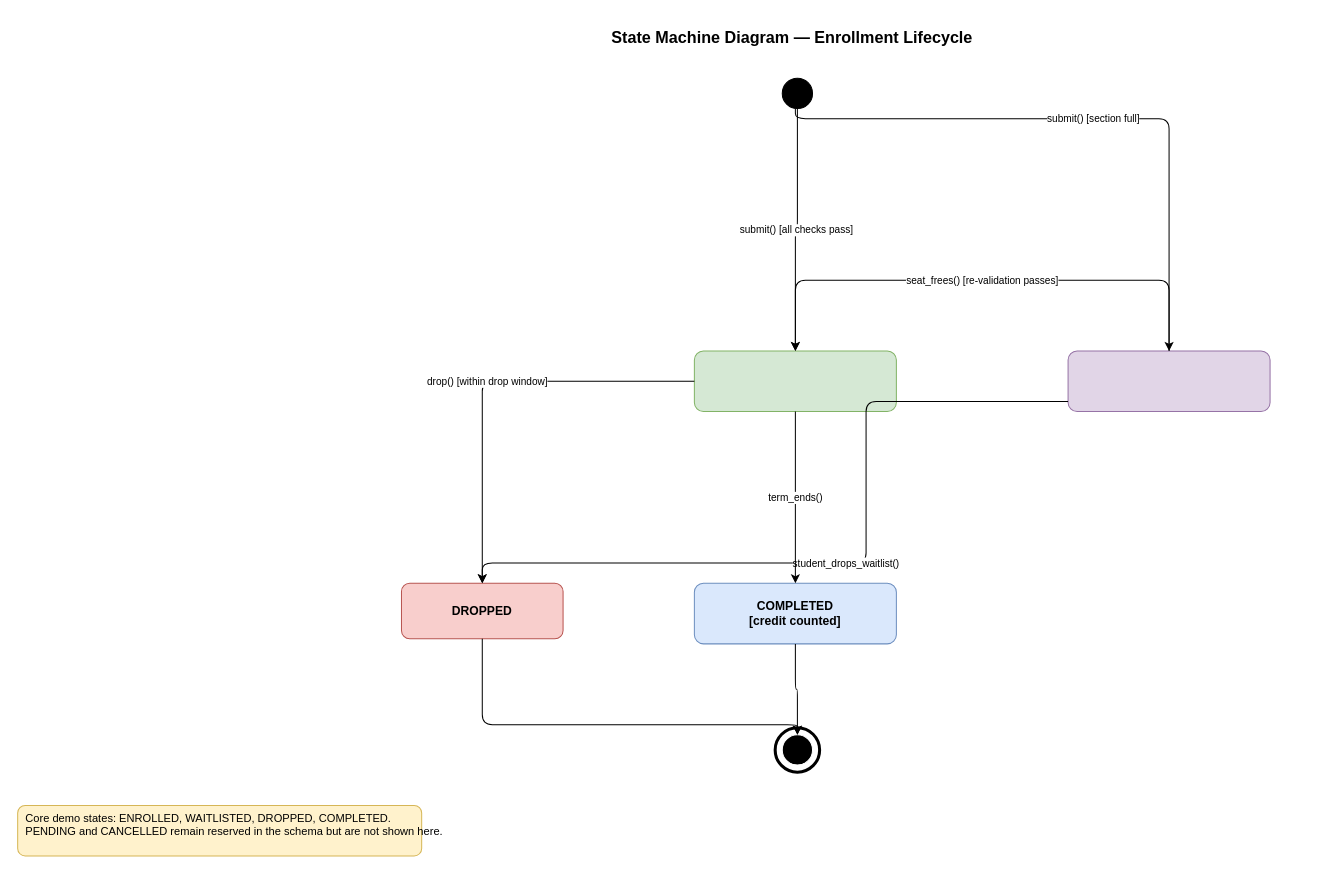
Image size: 1342x874. Some labels were removed from this diagram. Here are the shapes that lost their labels. From the top down, the centre of each, then its label:
point 794,381: ENROLLED [confirmed seat]
point 1168,381: WAITLISTED [in queue]
